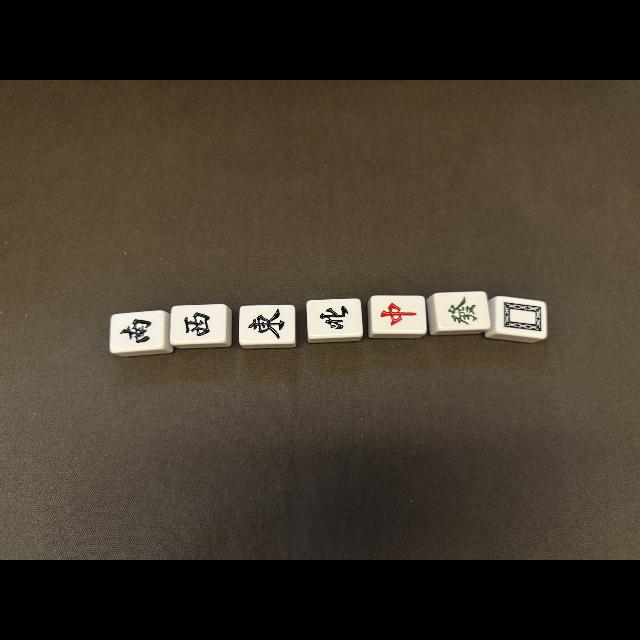dg: (437, 293, 487, 329)
dr: (372, 296, 424, 332)
dw: (497, 300, 545, 334)
we: (240, 306, 294, 342)
wn: (308, 300, 360, 336)
ws: (111, 313, 162, 351)
ww: (172, 305, 224, 343)
